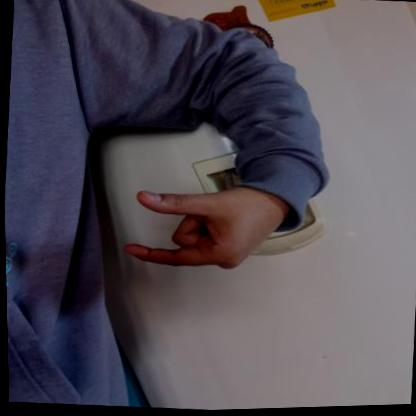G: (103, 165, 301, 301)
